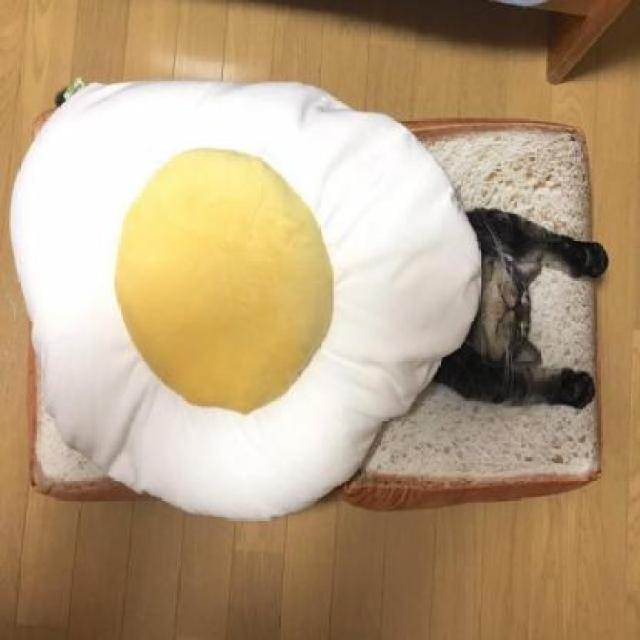cat: (443, 198, 626, 428)
